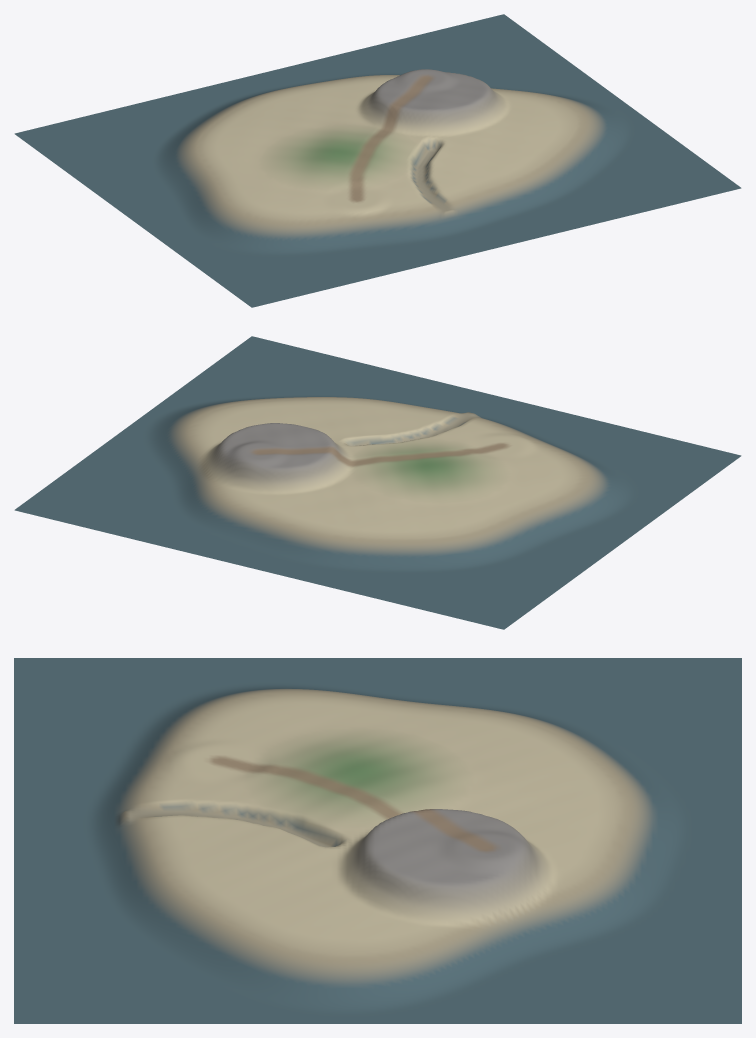
File: island_terrain.glb
The picture shows the model from 3 angles, top to bottom: view 1: azimuth 30°, elevation 25°; view 2: azimuth 150°, elevation 25°; view 3: azimuth 270°, elevation 25°; orthographic projection. The views are drawn at different scales.
Visible parts, largest first — view 1: IslandTerrain-col; view 2: IslandTerrain-col; view 3: IslandTerrain-col.
Part boxes in pixels (x1,y1,x2,y2): IslandTerrain-col: (14,14,741,307); IslandTerrain-col: (14,336,741,629); IslandTerrain-col: (14,658,741,1023).
Bounding box in the file's own units: 176 × 12.66 × 148.
